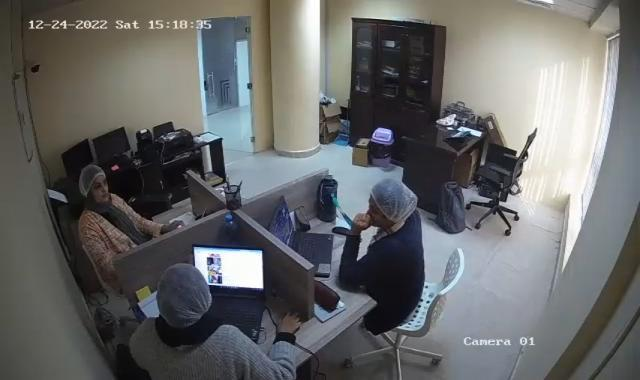hairnet: (156, 268, 210, 326), (370, 180, 418, 228), (78, 165, 110, 200)
